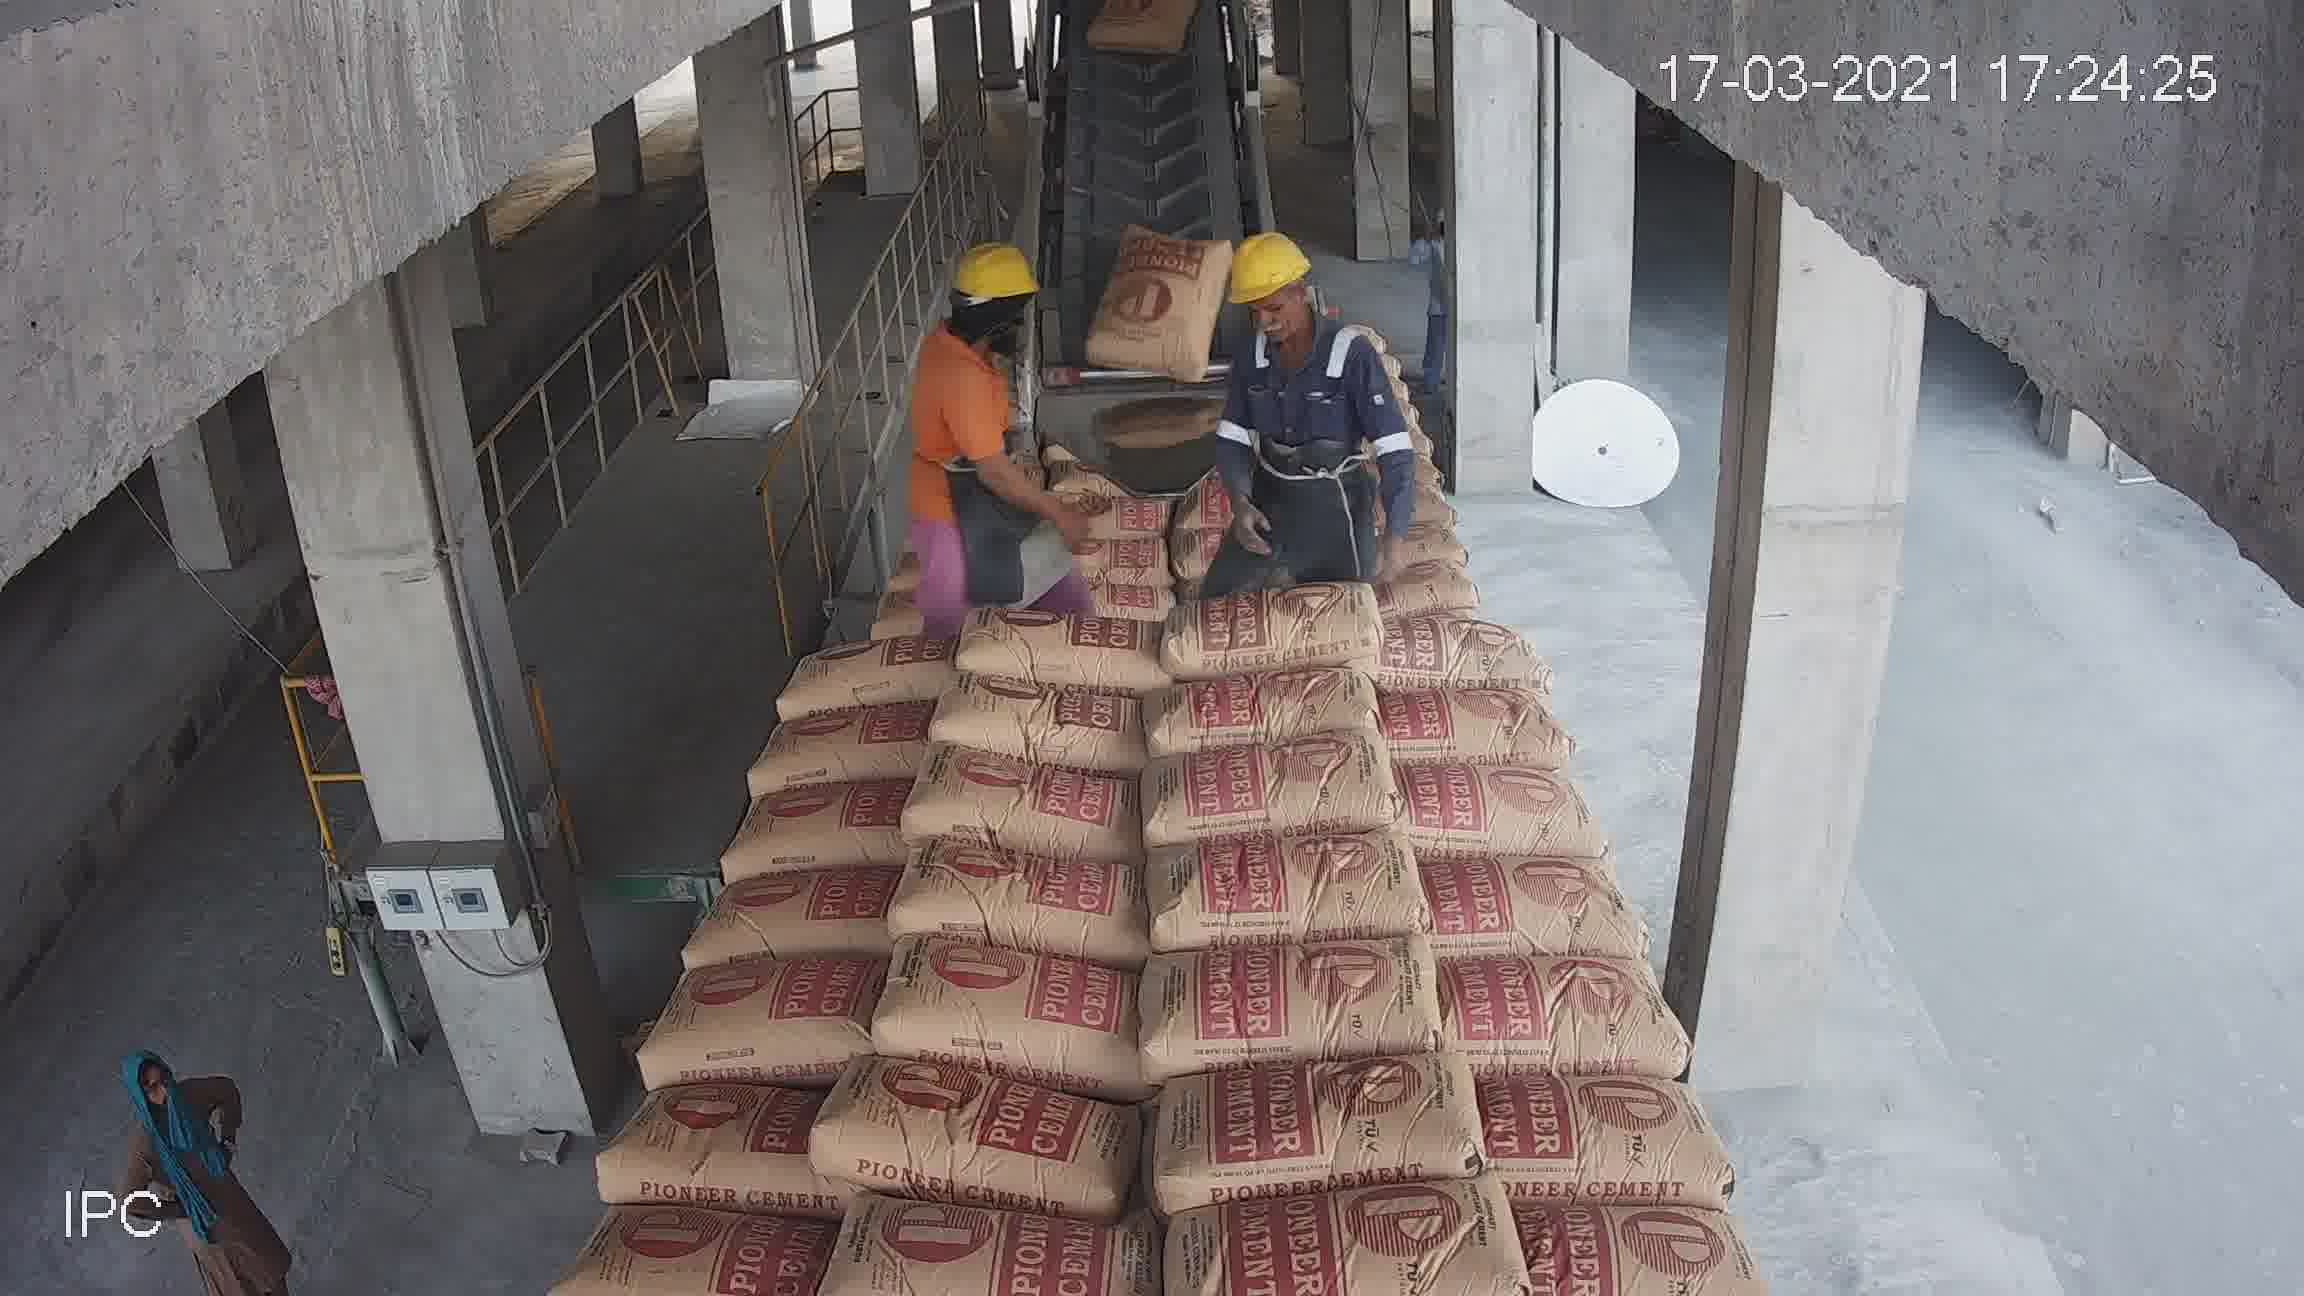bag: (1114, 260, 1217, 369), (1101, 11, 1195, 97)
bag_h: (1150, 1044, 1480, 1211), (786, 1060, 1131, 1199), (1192, 1185, 1556, 1293), (1163, 926, 1464, 1048), (1416, 957, 1703, 1082), (1133, 828, 1421, 943), (1494, 1063, 1755, 1190), (1397, 853, 1671, 965), (641, 951, 892, 1070), (824, 1209, 1176, 1291), (859, 953, 1103, 1070), (1491, 1190, 1749, 1296), (579, 1082, 805, 1196), (1152, 733, 1397, 834), (1383, 760, 1612, 866), (680, 859, 904, 964), (1150, 578, 1385, 676), (892, 840, 1124, 937), (1143, 646, 1381, 734), (579, 1215, 820, 1296), (896, 756, 1139, 834), (1317, 554, 1525, 638), (1160, 517, 1372, 600), (967, 549, 1161, 638), (722, 782, 915, 870), (954, 612, 1166, 690), (1133, 440, 1336, 519), (1374, 684, 1571, 758), (942, 685, 1157, 753), (1374, 616, 1541, 703), (755, 703, 919, 790), (798, 646, 965, 725), (775, 589, 976, 654), (1161, 487, 1329, 563), (1329, 459, 1480, 532), (834, 521, 968, 600), (978, 506, 1139, 567), (1324, 525, 1513, 576), (877, 435, 1022, 498), (847, 494, 991, 552), (1313, 415, 1453, 464), (1017, 468, 1150, 517), (1067, 389, 1166, 449), (1305, 366, 1412, 419), (1288, 340, 1399, 389), (1301, 392, 1421, 437), (1084, 430, 1180, 467)
belt: (1052, 0, 1261, 267)
